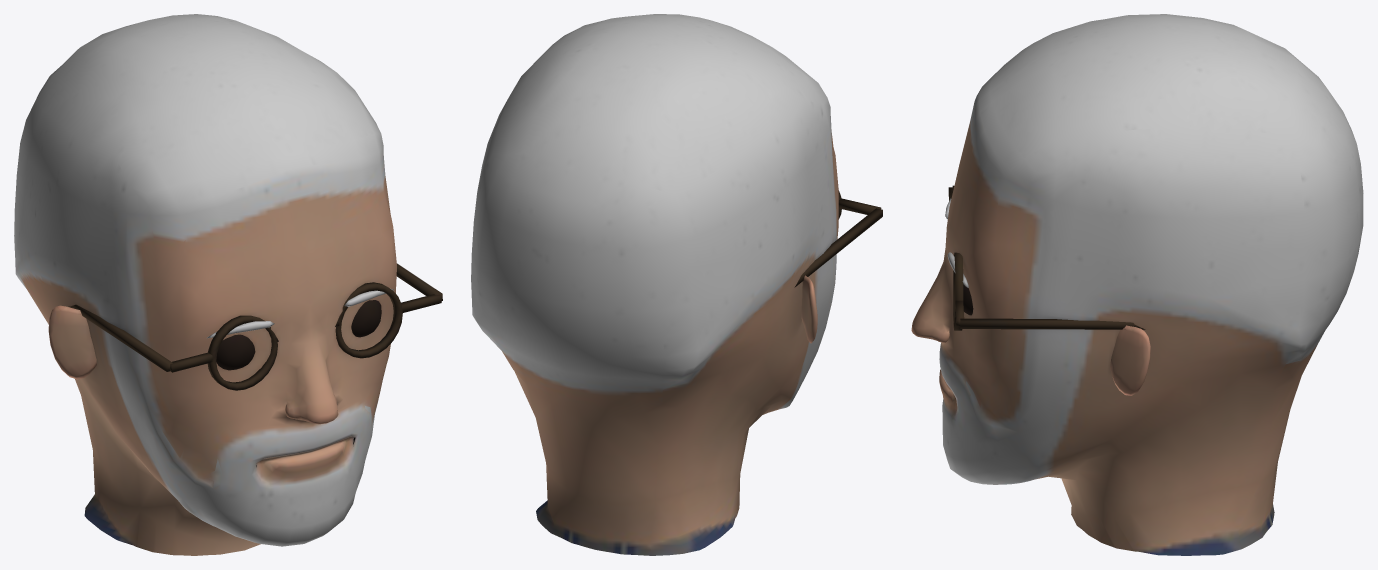
The model's file is PH_NPC__OldMan_Head.fbx.
The picture shows the model from 3 angles, left to right: view 1: azimuth 30°, elevation 25°; view 2: azimuth 150°, elevation 25°; view 3: azimuth 270°, elevation 25°; orthographic projection. The views are drawn at different scales.
Parts seen in each view (by area): view 1: PH_NPC__OldMan_Head; view 2: PH_NPC__OldMan_Head; view 3: PH_NPC__OldMan_Head.
Part boxes in pixels (x1,y1,x2,y2): PH_NPC__OldMan_Head: (14, 14, 442, 555); PH_NPC__OldMan_Head: (471, 14, 882, 555); PH_NPC__OldMan_Head: (911, 14, 1363, 555).
Bounding box in the file's own units: 0.1951 × 0.2786 × 0.2373.
